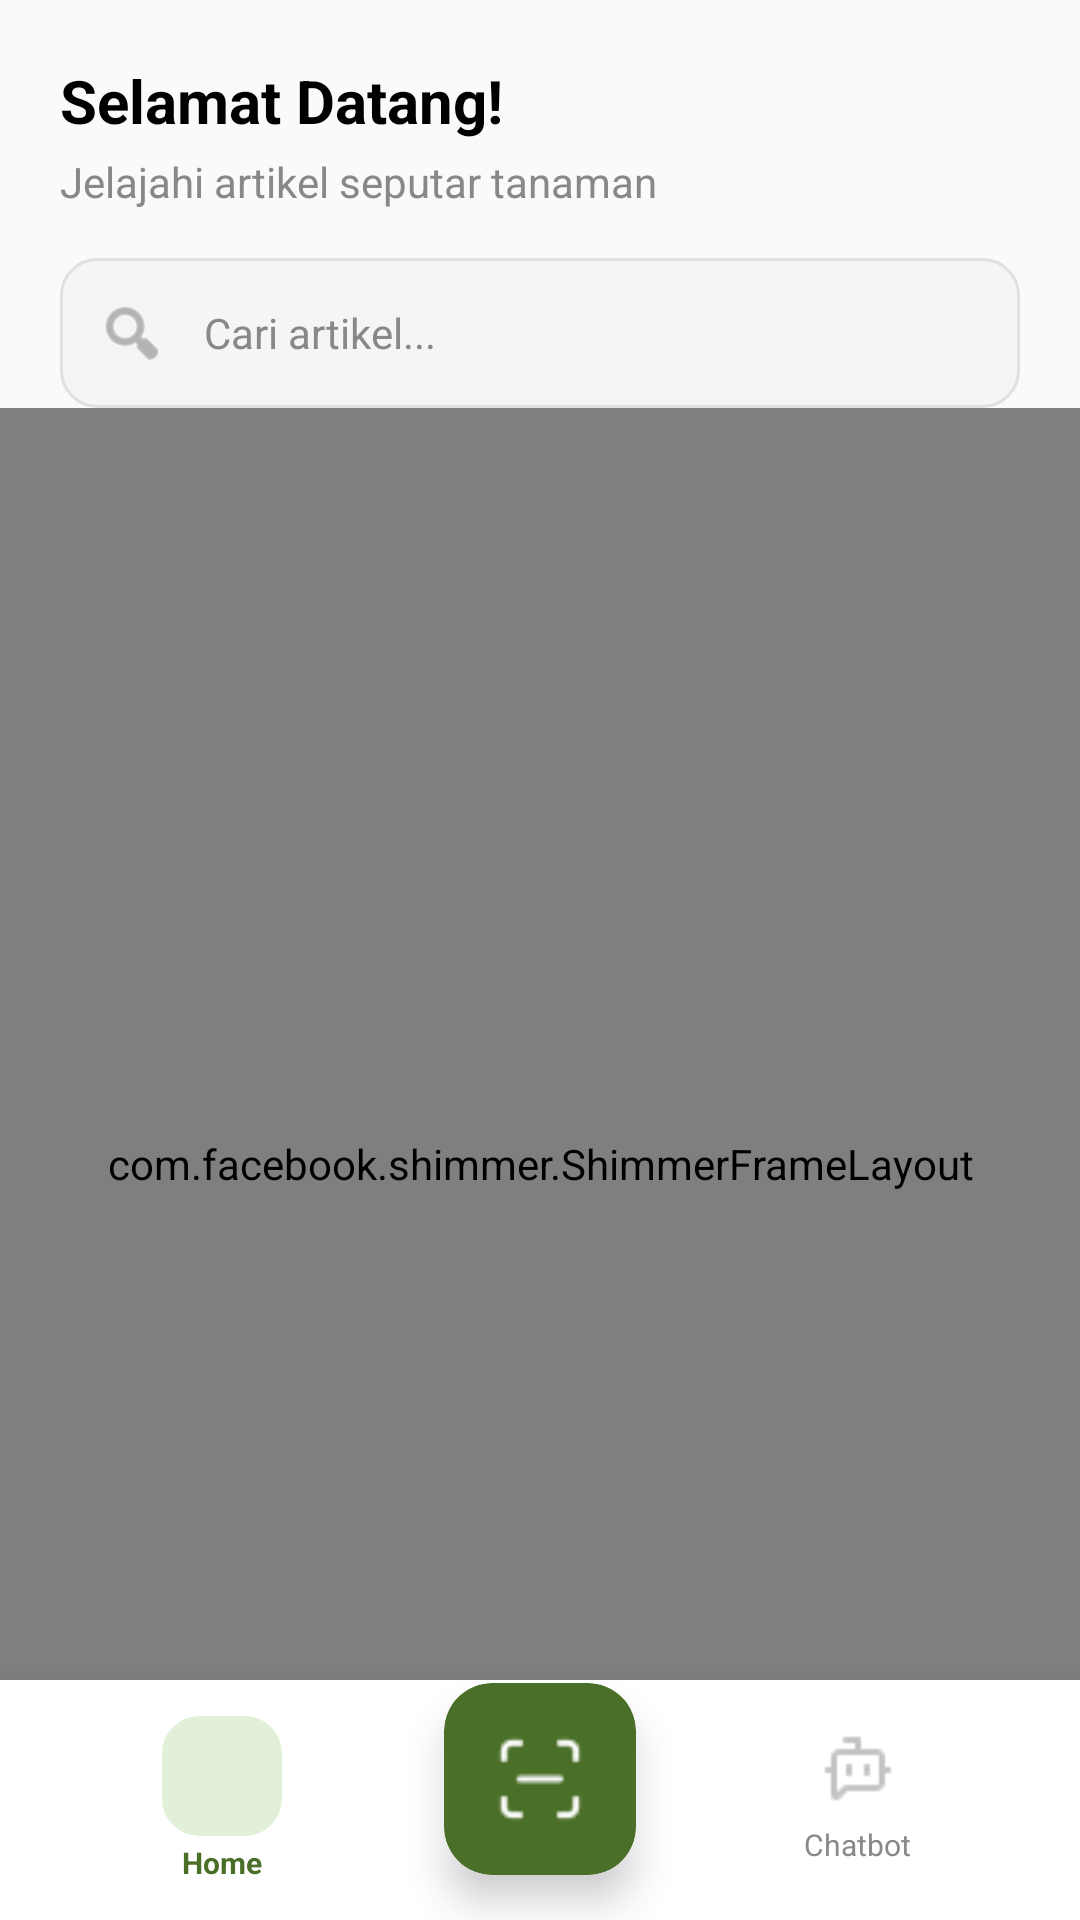

Point at icon controls on the screen. Image size 1080*1920, points as (x=x, y=y).
scan: (x=539, y=1778)
search: (x=132, y=333)
